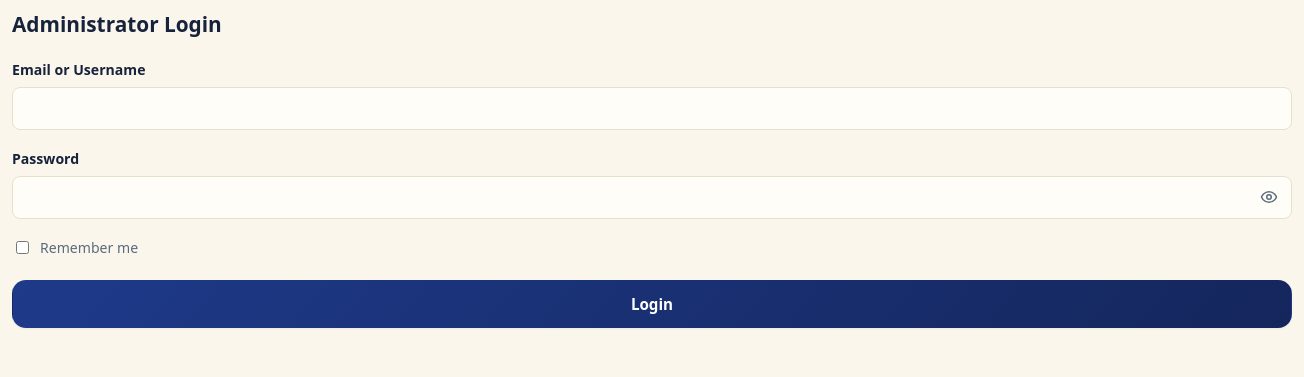
LoginForm › shows validation errors for empty fields and a short password
The width and height of the screenshot is (1304, 377).
Type "admin@example.com" into the field labelled "Email or Username" at (652, 108), box [12, 87, 1292, 130]
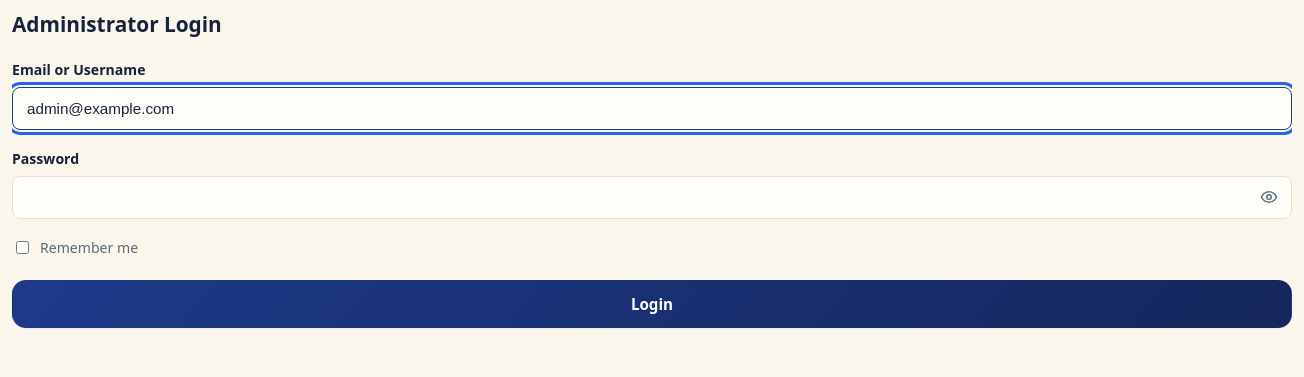
Type "123" into the password field labelled "Password" at (652, 197), box [12, 176, 1292, 219]
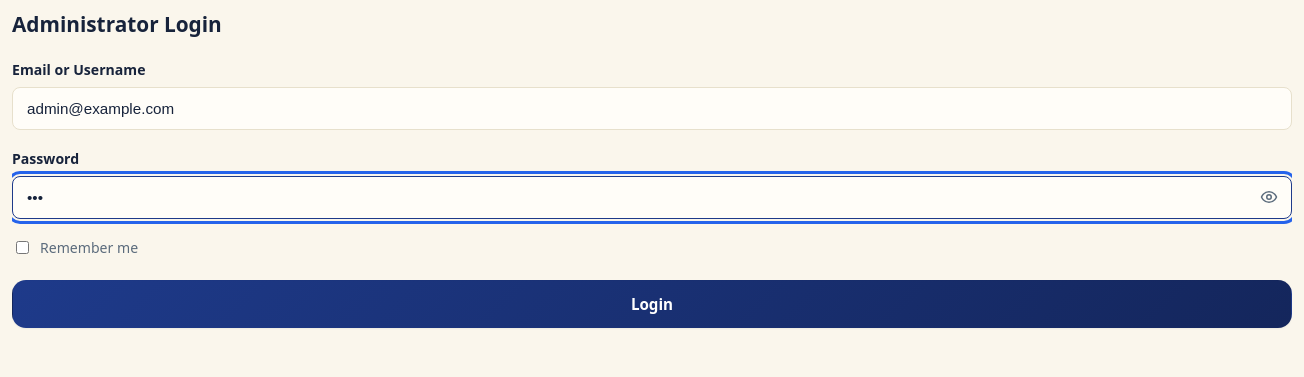
Click the button "Login" at (652, 304), box [12, 280, 1292, 328]
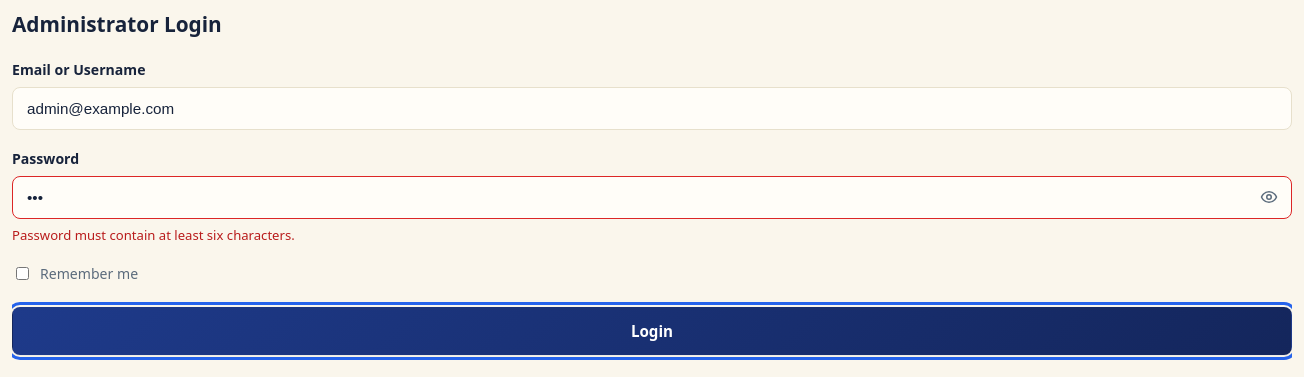
Expected: the text "Password must contain at least six characters." is shown, [12, 226, 295, 244]
